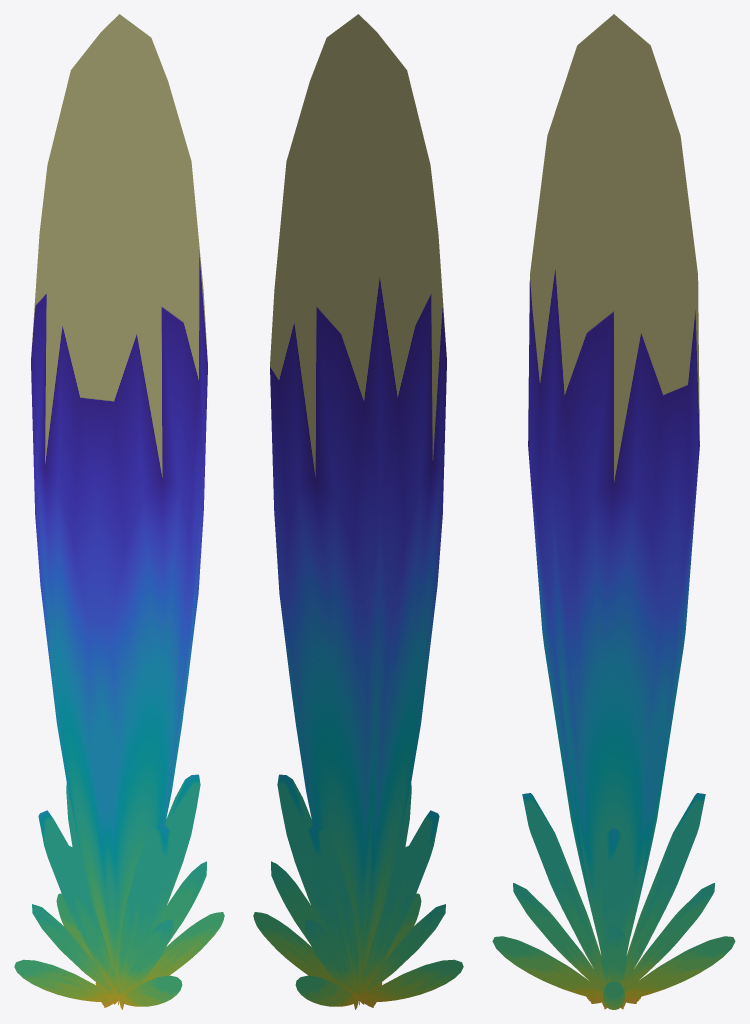
Rendered from longBox.obj.
3 renders of one model, left to right at view 1: azimuth 30°, elevation 25°; view 2: azimuth 150°, elevation 25°; view 3: azimuth 270°, elevation 25°, orthographic.
Bounding box in the file's own units: 14.3 × 64 × 14.3.
1 material, 1 textured.
